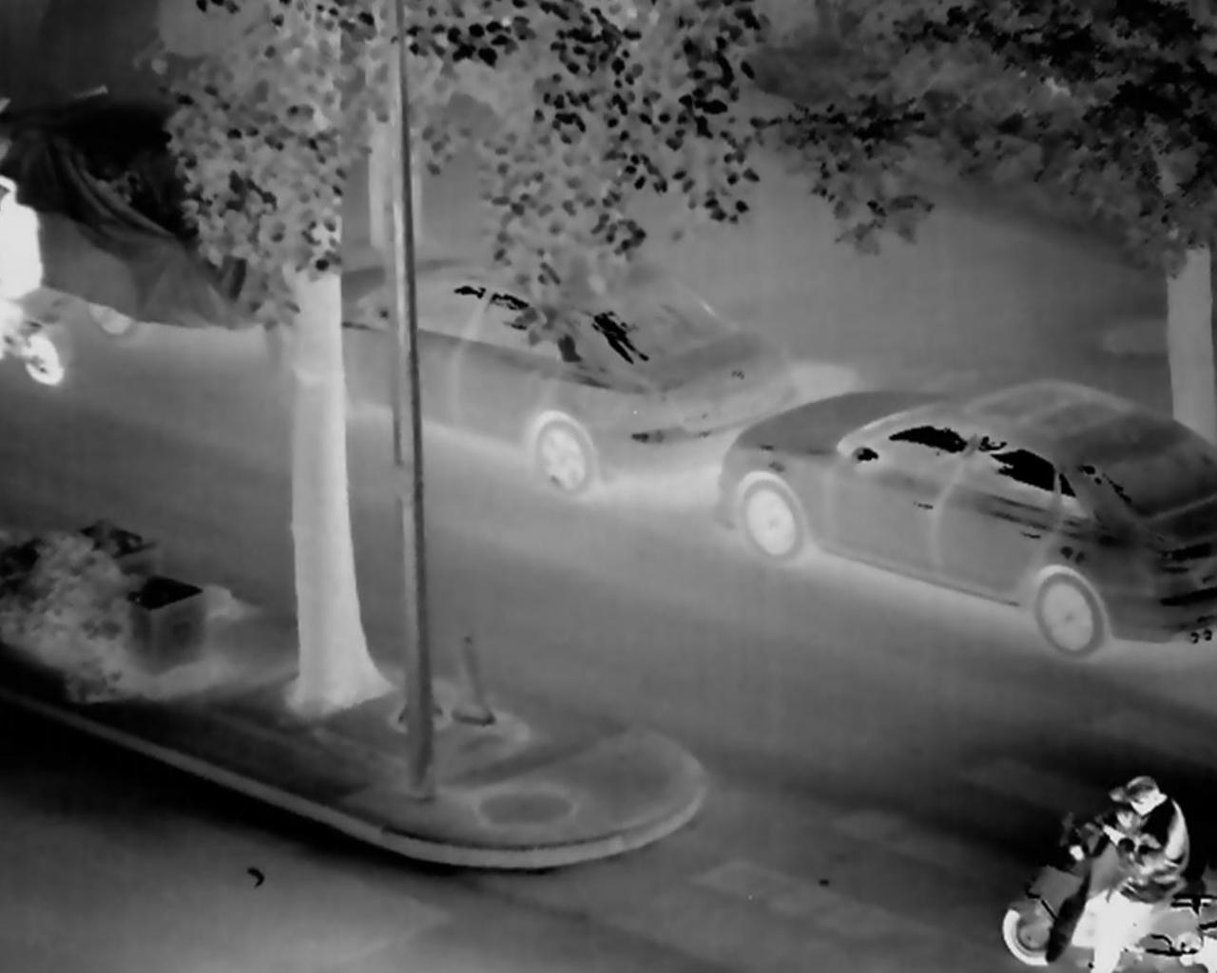person: (1058, 771, 1217, 973)
